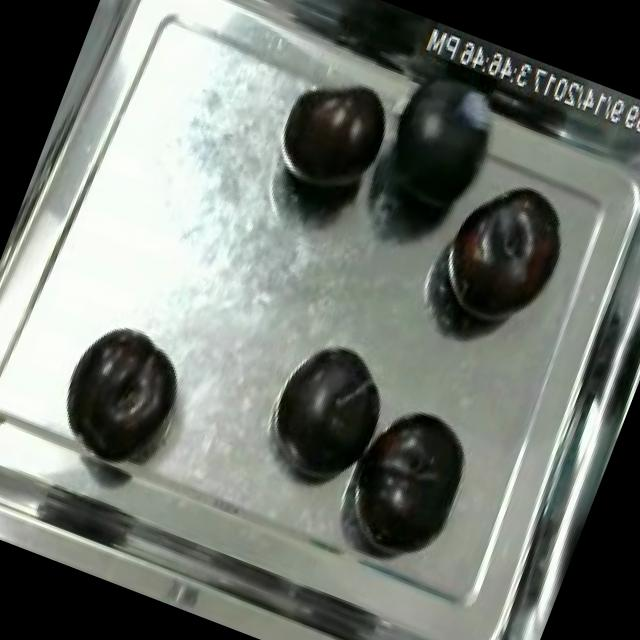Fruit: (417, 163, 584, 350), (334, 390, 488, 564), (260, 327, 406, 496), (259, 56, 408, 216), (47, 310, 192, 471)
